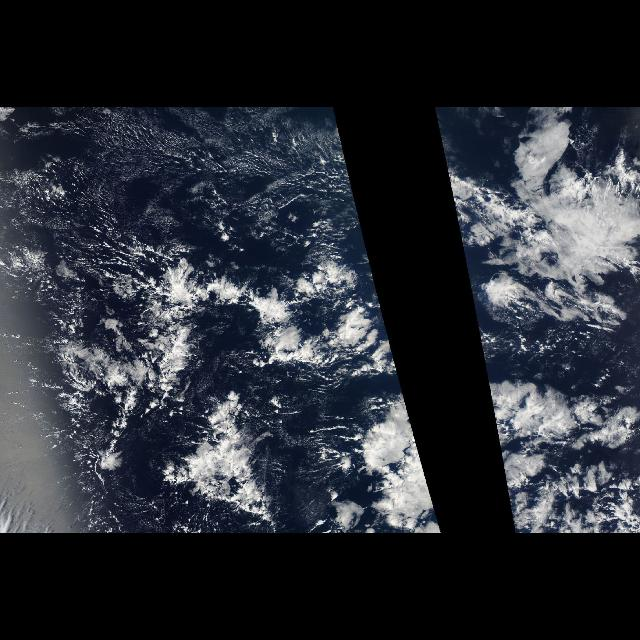Fish: (124, 278, 388, 414)
Sugar: (2, 109, 372, 265)
